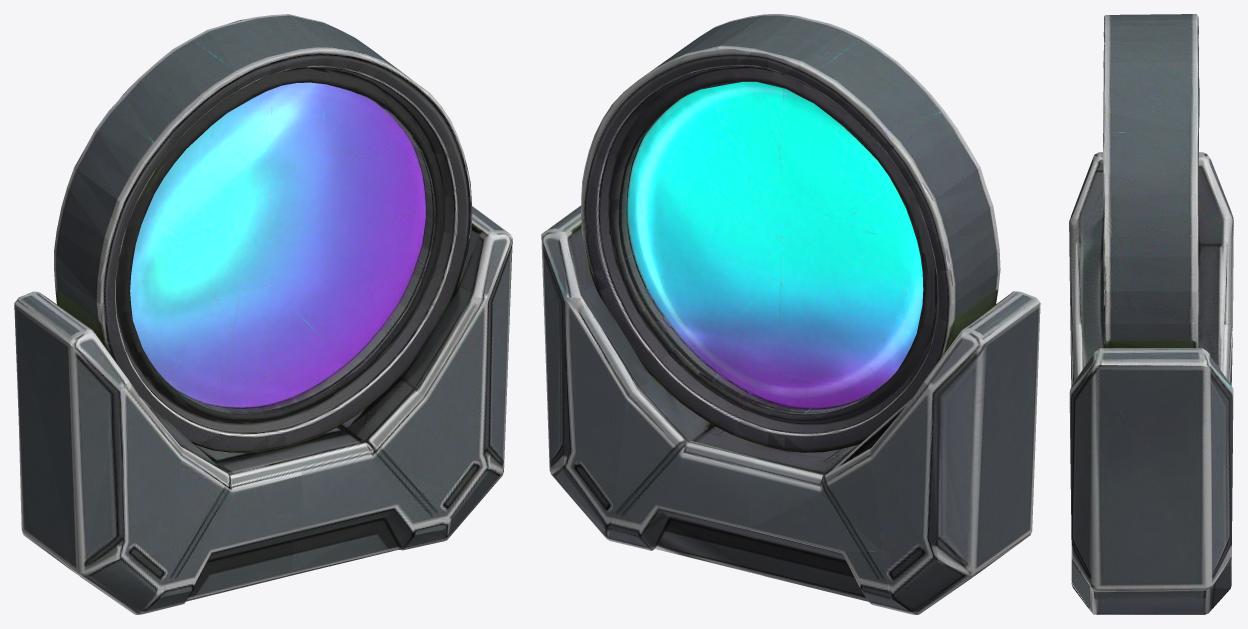
The model's file is polarizer.glb.
3 renders of one model, left to right at view 1: azimuth 30°, elevation 25°; view 2: azimuth 150°, elevation 25°; view 3: azimuth 270°, elevation 25°, orthographic. The views are drawn at different scales.
Bounding box in the file's own units: 0.8945 × 1 × 0.2949.
1 material, 1 textured.
